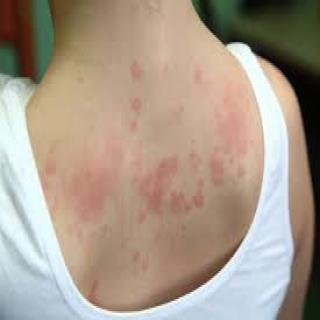urticaria: (51, 155, 135, 217), (208, 81, 249, 197), (143, 154, 208, 209), (121, 96, 146, 132), (126, 60, 144, 81)
